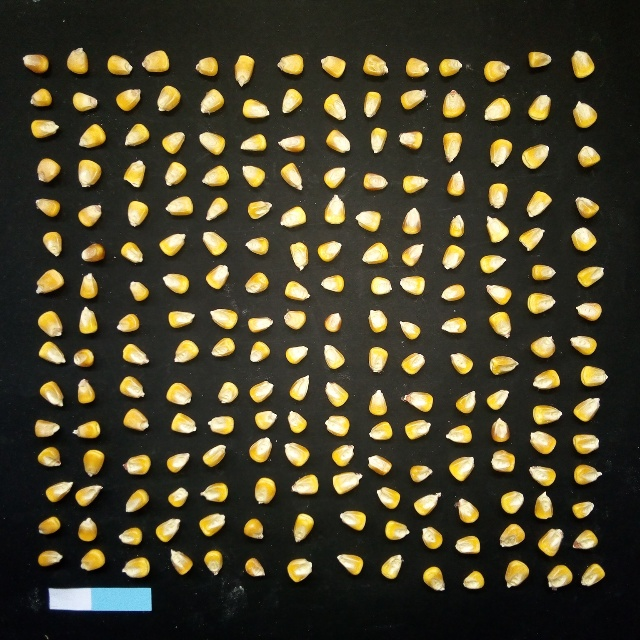escala: (47, 588, 152, 610)
maiz: (499, 556, 534, 592), (445, 452, 480, 484), (486, 134, 516, 171), (288, 509, 317, 546), (412, 488, 445, 520), (32, 266, 66, 297), (450, 494, 484, 525), (481, 93, 513, 125), (570, 98, 601, 131), (495, 487, 529, 517), (542, 562, 576, 592), (569, 428, 604, 457), (573, 261, 609, 289), (570, 461, 607, 488), (320, 89, 350, 122), (76, 122, 109, 152), (568, 48, 598, 81), (452, 531, 485, 561), (232, 52, 258, 90), (328, 470, 366, 496), (155, 82, 184, 116), (440, 86, 468, 121), (439, 129, 466, 165), (199, 227, 230, 258), (120, 157, 150, 189), (36, 378, 68, 408), (322, 378, 352, 410), (524, 188, 554, 220), (571, 394, 603, 424), (498, 520, 530, 550), (140, 46, 173, 75), (278, 160, 307, 193), (197, 510, 230, 539), (525, 91, 554, 124), (120, 450, 154, 478), (252, 474, 280, 508), (566, 226, 601, 253), (525, 429, 560, 456), (486, 352, 522, 378), (35, 308, 65, 339), (486, 309, 516, 340), (275, 50, 307, 79), (121, 121, 153, 150), (163, 378, 195, 407), (284, 555, 316, 584), (520, 142, 552, 171), (487, 448, 519, 477), (537, 527, 566, 559), (35, 339, 68, 367), (481, 57, 514, 85), (397, 85, 430, 113), (524, 290, 558, 317), (568, 331, 602, 358), (526, 462, 560, 489), (399, 389, 437, 413), (418, 564, 448, 594), (76, 158, 105, 189), (483, 214, 512, 245), (450, 387, 481, 416), (113, 85, 145, 113), (121, 486, 153, 514), (381, 517, 413, 545), (569, 525, 601, 553), (116, 373, 149, 400), (120, 406, 153, 433), (442, 420, 475, 447), (119, 341, 153, 367), (336, 508, 370, 534), (530, 401, 564, 427), (28, 116, 63, 141), (34, 155, 64, 184), (579, 560, 608, 590), (318, 53, 349, 81), (124, 198, 152, 229), (158, 230, 189, 258), (166, 546, 194, 577), (197, 130, 229, 157), (419, 522, 445, 555), (323, 192, 348, 226), (206, 306, 240, 331), (529, 366, 563, 391), (578, 364, 612, 389), (363, 453, 397, 478), (247, 435, 276, 464), (439, 242, 468, 271), (529, 331, 558, 360), (199, 86, 227, 116), (203, 263, 233, 291), (282, 441, 312, 469), (154, 515, 184, 543), (333, 552, 368, 576), (576, 142, 604, 172), (201, 162, 232, 189), (75, 202, 106, 229), (171, 337, 202, 364), (240, 96, 272, 122), (288, 471, 320, 497), (516, 226, 548, 252), (372, 485, 404, 511), (572, 300, 608, 323), (20, 51, 53, 76), (402, 417, 435, 442), (531, 489, 556, 522), (119, 555, 153, 579), (324, 127, 353, 155), (320, 341, 348, 370), (201, 442, 230, 470), (487, 415, 515, 444), (239, 162, 269, 189), (285, 372, 312, 402), (77, 546, 107, 573), (361, 51, 391, 78), (398, 206, 425, 236), (278, 204, 309, 230), (485, 180, 511, 211), (380, 550, 406, 581), (198, 479, 230, 504), (482, 282, 515, 306), (243, 268, 271, 296), (399, 348, 427, 376), (448, 348, 476, 376), (160, 129, 189, 156), (163, 159, 190, 188), (81, 448, 107, 478), (436, 54, 466, 80), (365, 126, 391, 156), (572, 193, 602, 219), (359, 240, 389, 266), (485, 386, 515, 412), (65, 45, 90, 76), (105, 52, 136, 77), (40, 229, 65, 260), (161, 271, 192, 296), (168, 410, 199, 435), (73, 483, 104, 508), (400, 172, 431, 197), (366, 344, 391, 375), (164, 194, 196, 218), (359, 169, 391, 193), (287, 239, 310, 272), (165, 307, 198, 330), (321, 163, 349, 190), (203, 195, 230, 223), (210, 333, 237, 361), (248, 377, 276, 404), (35, 443, 63, 470), (330, 440, 358, 467), (280, 87, 306, 116), (403, 53, 432, 79), (322, 413, 352, 438), (43, 479, 73, 504), (76, 304, 100, 335), (360, 89, 384, 120), (353, 209, 384, 233), (119, 239, 146, 266), (400, 241, 427, 268), (363, 308, 390, 335), (75, 515, 101, 543), (245, 196, 274, 221), (116, 523, 145, 548), (239, 131, 269, 155), (77, 270, 101, 300), (283, 278, 313, 302), (478, 252, 508, 276), (277, 132, 308, 155), (71, 419, 102, 442), (205, 414, 237, 436), (446, 168, 468, 200), (318, 238, 346, 263), (283, 342, 311, 367), (202, 548, 226, 577), (399, 274, 428, 298), (71, 90, 101, 113), (32, 196, 62, 219), (438, 281, 468, 304), (241, 516, 267, 542), (194, 53, 221, 78), (248, 338, 273, 365), (216, 378, 241, 405), (284, 408, 309, 435), (165, 450, 192, 475), (240, 554, 267, 579), (35, 514, 63, 538), (407, 461, 435, 485), (78, 241, 107, 264), (251, 408, 280, 431), (396, 129, 425, 152), (32, 417, 62, 439), (245, 313, 276, 334), (438, 314, 469, 335), (320, 271, 347, 295), (115, 311, 142, 335), (282, 308, 309, 332), (396, 318, 423, 342), (367, 389, 391, 416), (461, 568, 488, 592), (27, 86, 55, 109), (528, 262, 560, 282), (243, 234, 272, 256), (366, 420, 396, 441), (166, 485, 191, 510), (570, 499, 597, 522), (75, 377, 97, 405), (127, 279, 152, 303), (368, 274, 395, 296), (35, 548, 64, 568), (525, 49, 554, 69), (71, 346, 95, 370), (446, 212, 466, 239), (323, 309, 344, 334)
